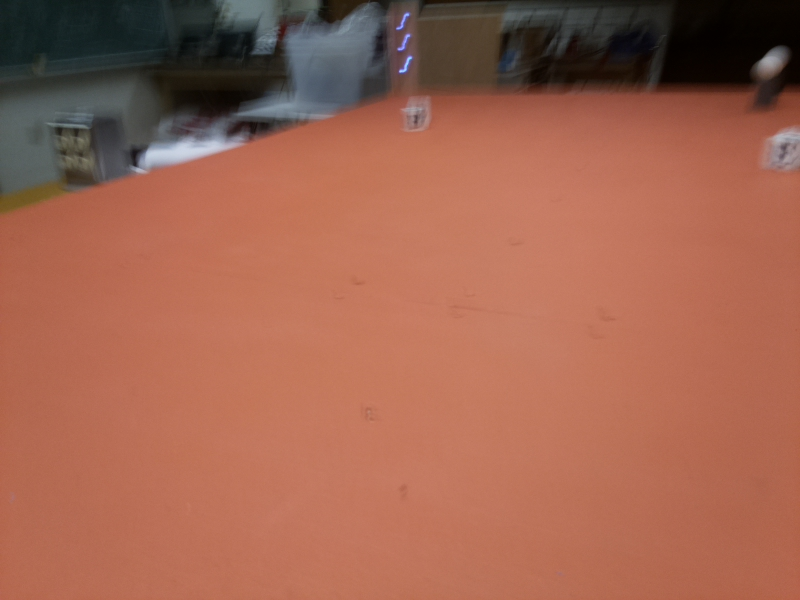blockB: (401, 103, 431, 130)
blockE: (767, 130, 800, 176)
corner: (385, 7, 421, 94)
obstacle: (750, 45, 789, 116)
